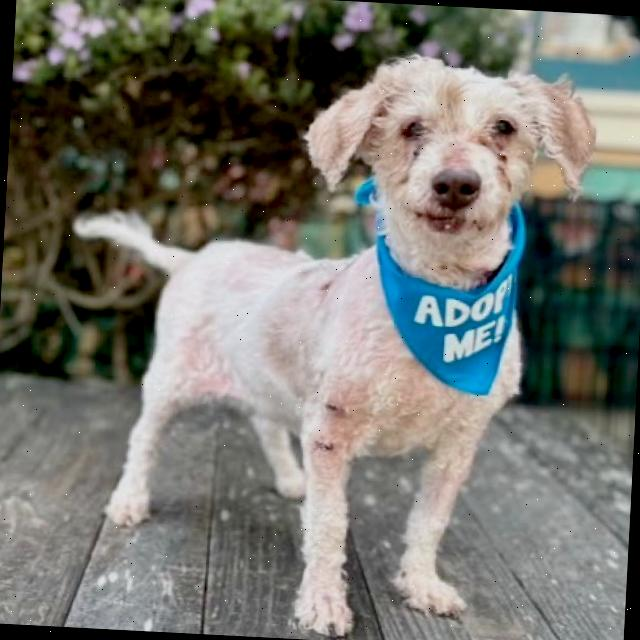Poodle_dog: (276, 35, 623, 302)
